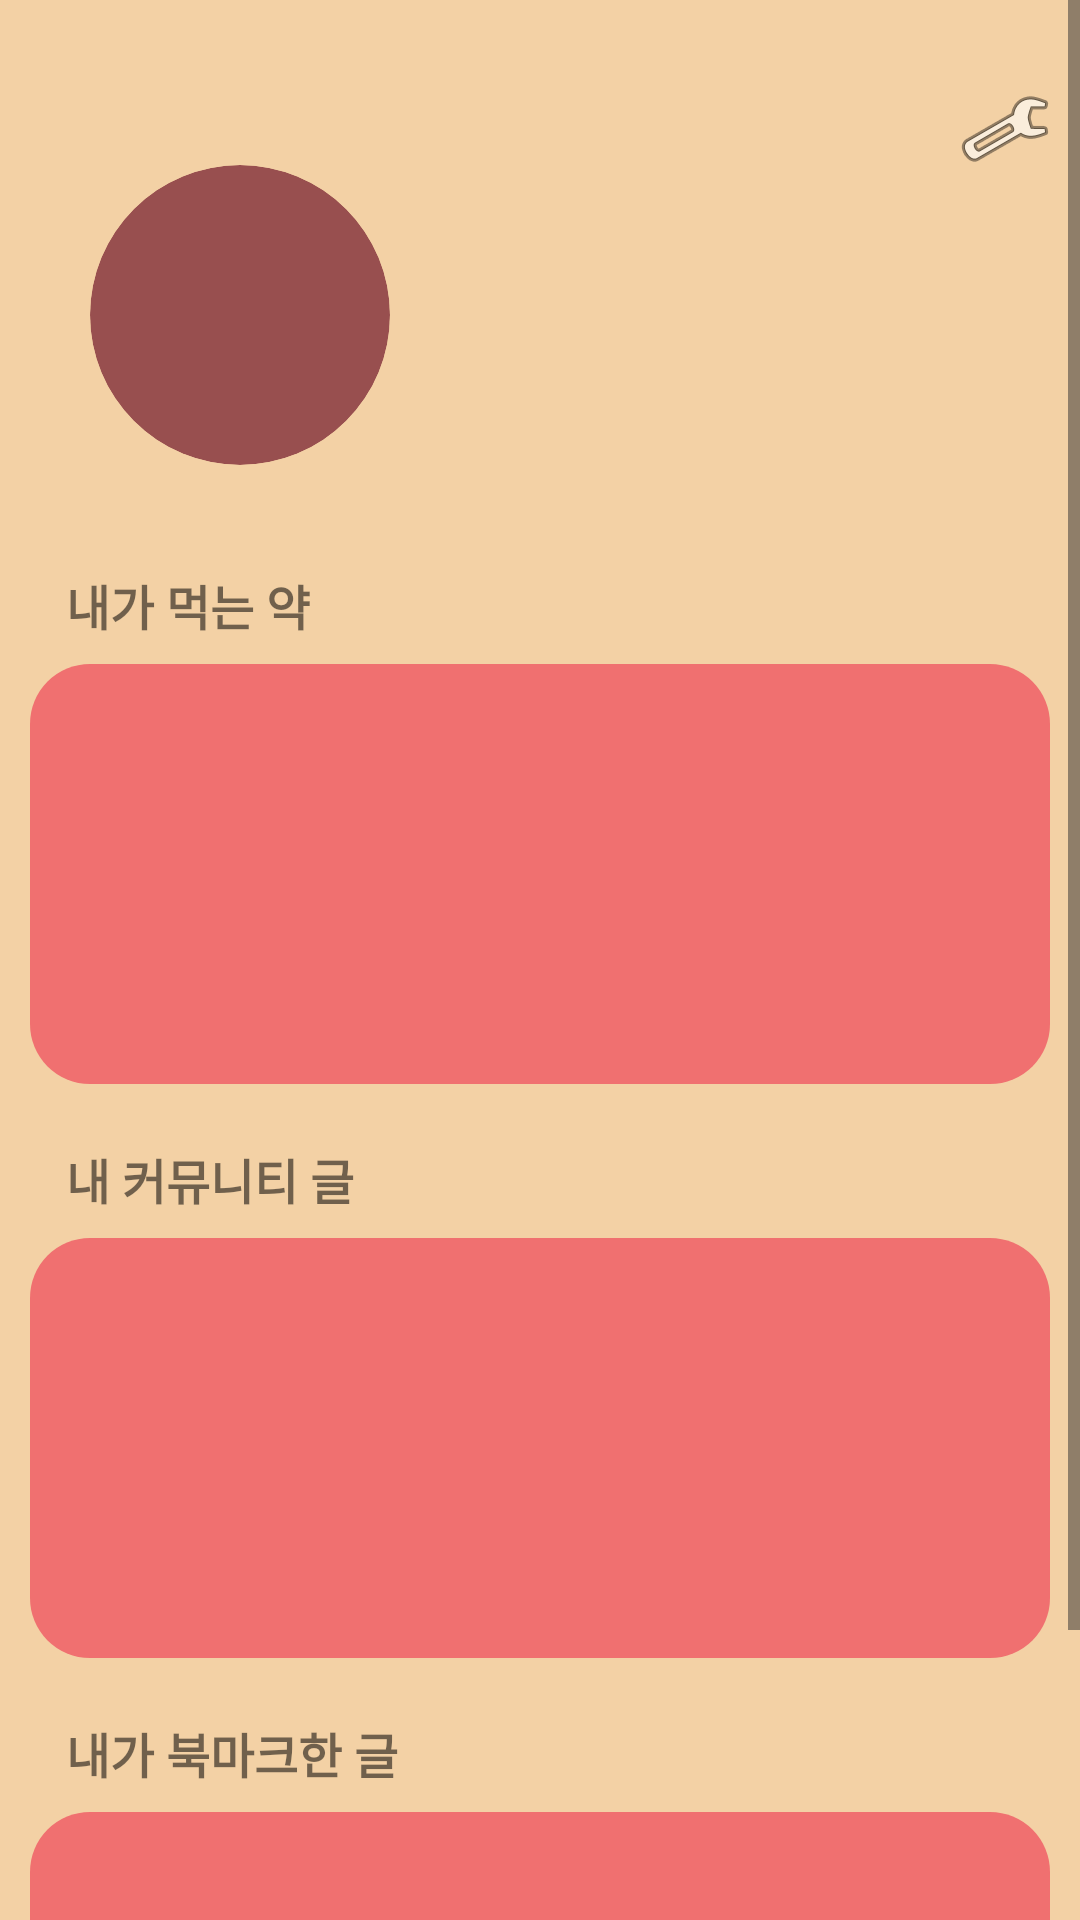

Point at icon controls on the screen. Image size 1080px x 1920px, points as point (x, y).
preferences: point (1005, 129)
